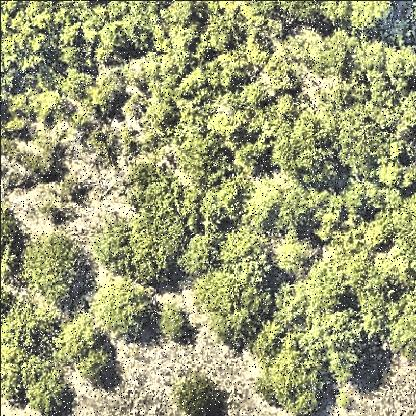tree-top: (312, 185, 416, 265), (185, 268, 271, 356), (348, 41, 416, 147), (94, 214, 190, 282), (357, 267, 416, 367), (256, 338, 325, 416), (271, 111, 341, 187), (16, 236, 85, 305), (50, 316, 113, 384), (310, 309, 364, 386), (240, 174, 314, 230), (91, 277, 153, 343), (2, 2, 56, 77), (171, 129, 233, 193), (278, 274, 344, 332), (66, 18, 132, 65), (21, 357, 73, 416), (219, 226, 275, 271), (201, 179, 248, 226), (1, 310, 46, 359), (169, 374, 220, 416), (311, 33, 355, 80), (2, 209, 28, 285), (272, 231, 316, 275), (345, 2, 395, 36), (202, 11, 238, 55), (183, 230, 218, 273), (93, 75, 124, 120), (154, 304, 190, 342), (376, 160, 404, 190)
